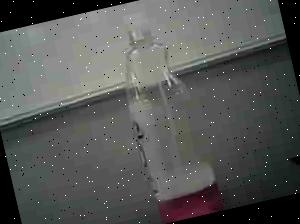hazard: (101, 0, 233, 224)
